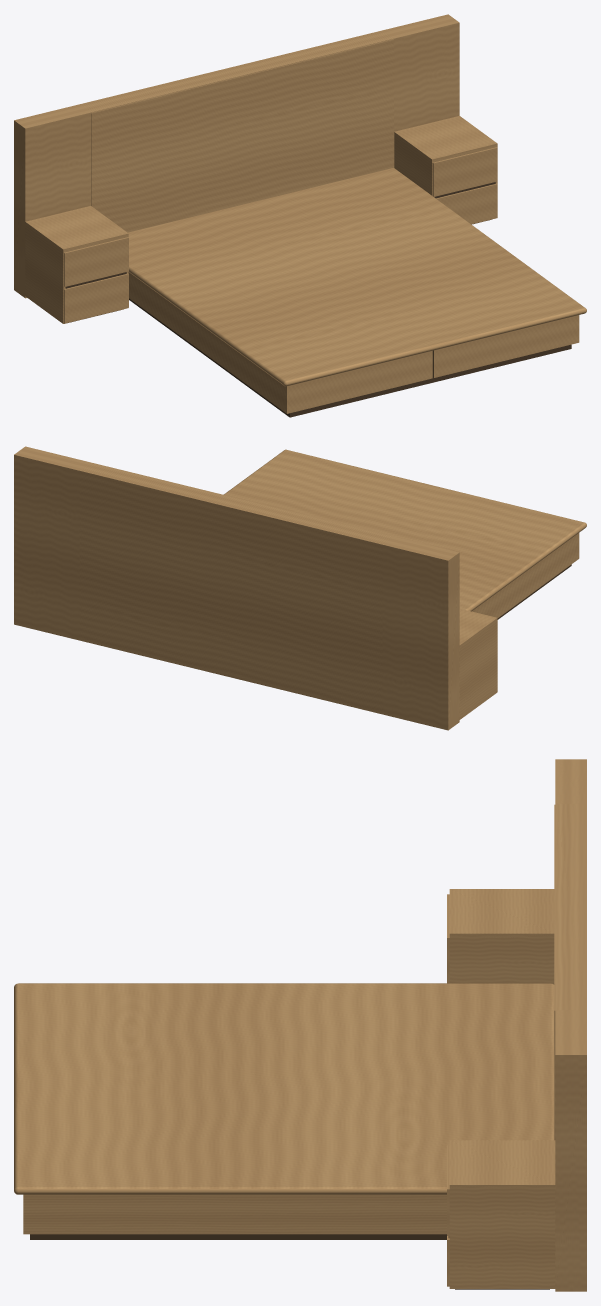
Rendered from scandia-stayon-lk-oak-400-drawers.glb.
3 renders of one model, top to bottom at view 1: azimuth 30°, elevation 25°; view 2: azimuth 150°, elevation 25°; view 3: azimuth 270°, elevation 25°, orthographic. The views are drawn at different scales.
Visible parts, largest first — view 1: platform 1850 x 2050, headboard front reveal, 400 general side panel (×2), 400 two drawer cabinet carcass (×2), left bed base, upper drawer front (×2), right bed base, lower drawer front (×2), LK headboard 1850, recessed dark plinth; view 2: LK headboard 1850, 400 general side panel (×2), platform 1850 x 2050, 400 two drawer cabinet carcass, left bed base; view 3: platform 1850 x 2050, 400 two drawer cabinet carcass (×2), right bed base, 400 general side panel (×2), LK headboard 1850, recessed dark plinth.
Boxes of the visible parts, x1,y1,x2,y2 form: platform 1850 x 2050: [128, 168, 586, 386]; headboard front reveal: [91, 39, 394, 232]; 400 general side panel (×2): [14, 14, 459, 298]; 400 two drawer cabinet carcass (×2): [25, 116, 497, 323]; left bed base: [128, 272, 432, 413]; upper drawer front (×2): [64, 147, 497, 286]; right bed base: [432, 315, 579, 377]; lower drawer front (×2): [64, 183, 497, 323]; LK headboard 1850: [80, 30, 393, 205]; recessed dark plinth: [129, 298, 571, 417]; LK headboard 1850: [79, 462, 393, 714]; 400 general side panel (×2): [14, 446, 459, 730]; platform 1850 x 2050: [223, 449, 586, 611]; 400 two drawer cabinet carcass: [459, 608, 497, 719]; left bed base: [472, 533, 579, 617]; platform 1850 x 2050: [14, 983, 554, 1194]; 400 two drawer cabinet carcass (×2): [449, 889, 555, 1288]; right bed base: [23, 1194, 446, 1234]; 400 general side panel (×2): [555, 759, 586, 1291]; LK headboard 1850: [555, 803, 586, 1010]; recessed dark plinth: [30, 1234, 446, 1239].
Bounding box in the file's own units: 2.65 × 0.99 × 2.17.
Materials: 2 (1 with a texture image).
